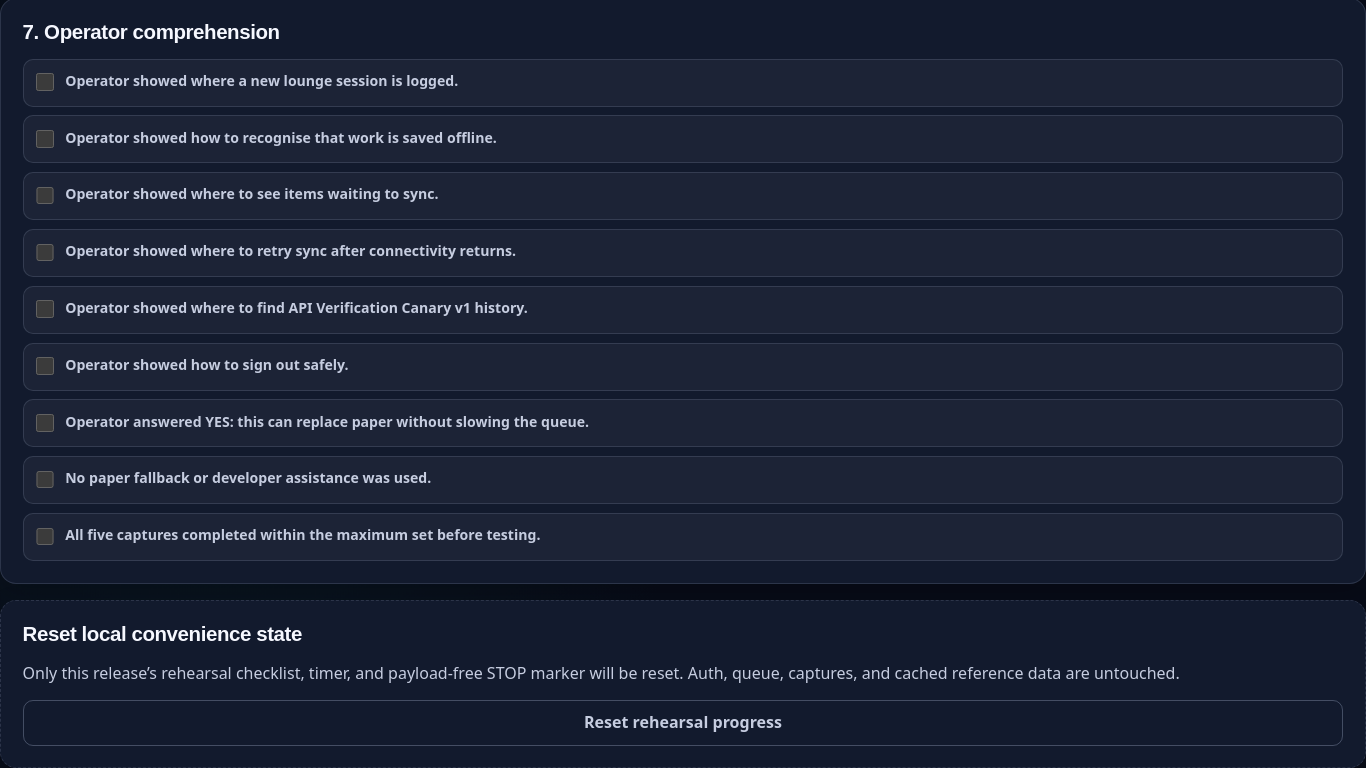
Test: FieldAcceptanceRehearsal › preserves invalid storage, blocks all progress, and requires confirmed reset
The image size is (1366, 768).
(page scrolled)
Click the button "Reset rehearsal progress": point(683, 723) [23,700,1343,746]
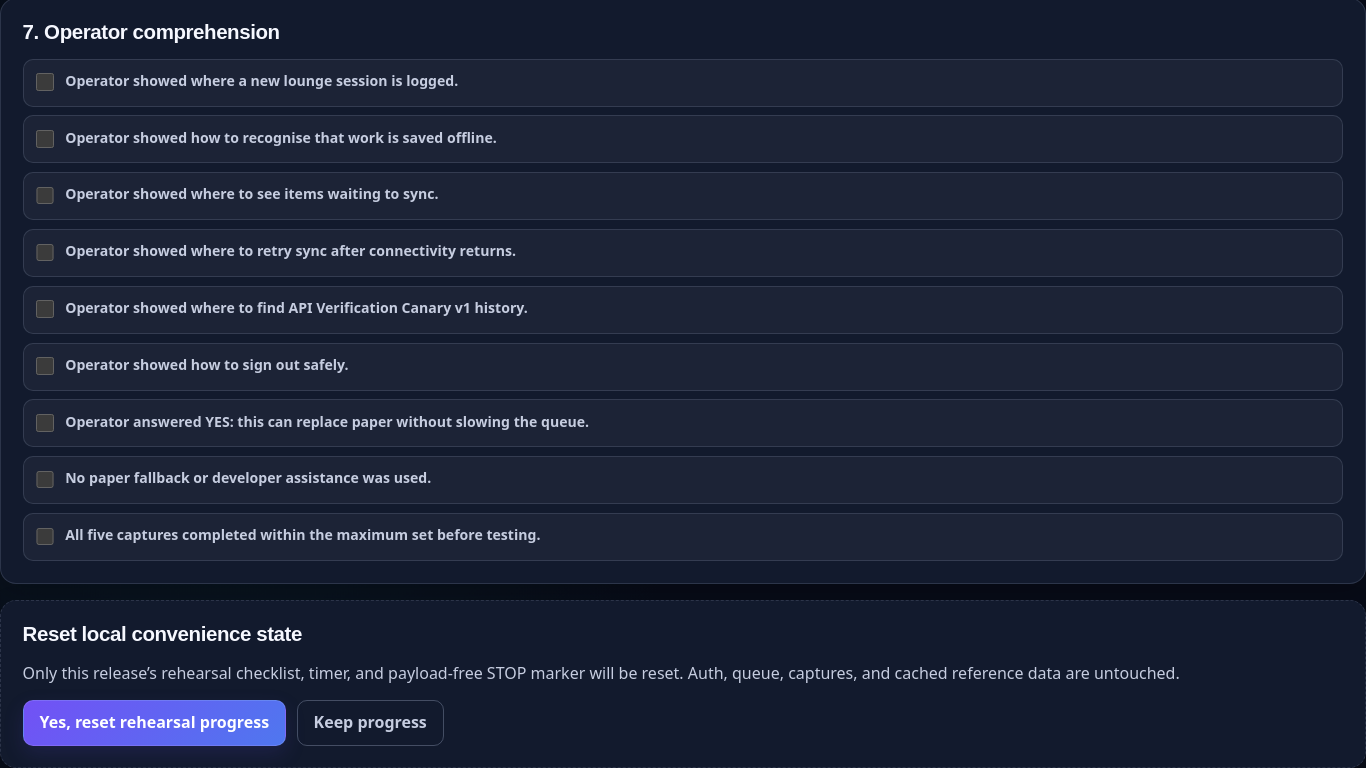
Click the button "Yes, reset rehearsal progress": point(154, 723) [23,700,286,746]
(page scrolled)
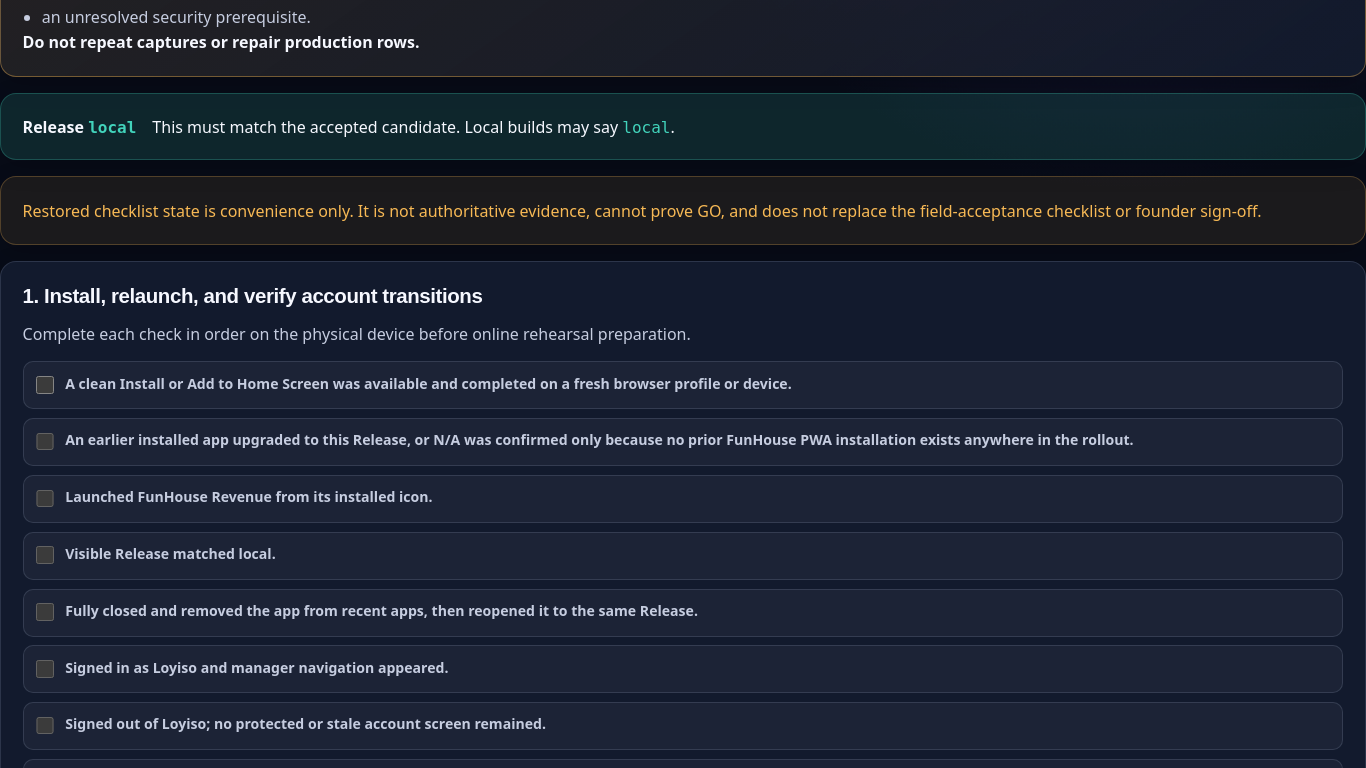
Expected: the checkbox labelled "A clean Install or Add to Home Screen" is enabled, [36,376,54,394]
